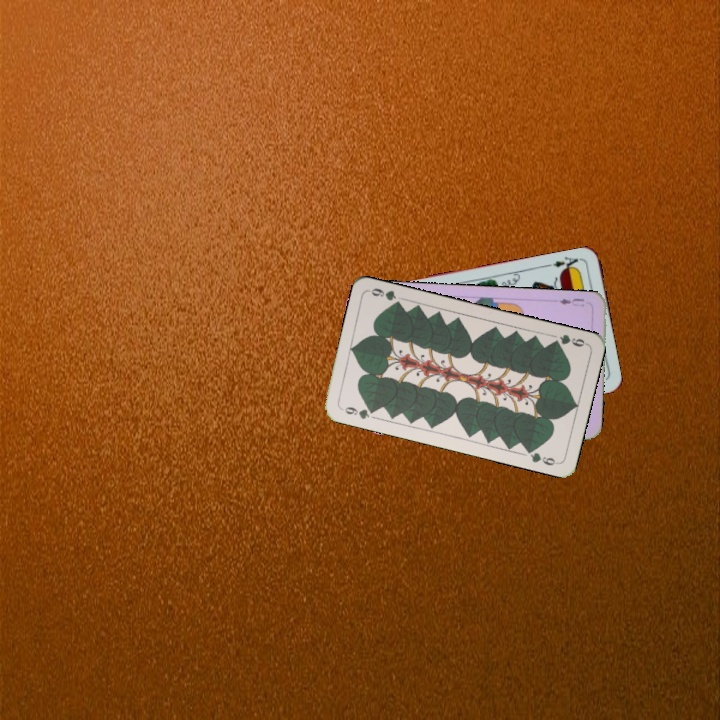EA: (549, 253, 584, 274)
EU: (555, 294, 587, 309)
G9: (548, 330, 590, 349), (341, 402, 379, 422)
